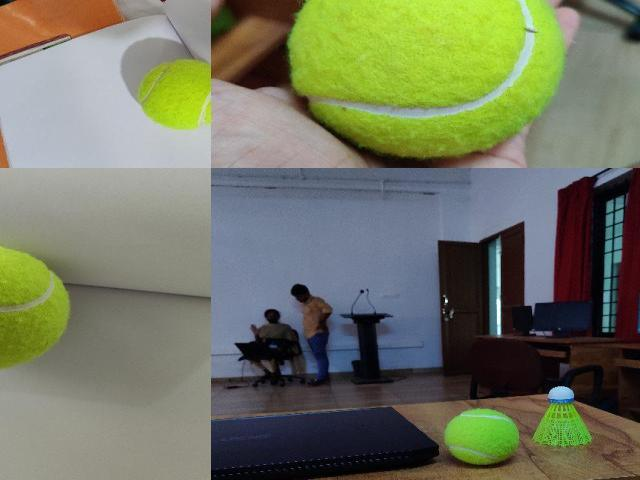tennis-ball: (288, 0, 564, 157), (0, 246, 71, 371), (137, 58, 210, 130), (444, 409, 518, 464)
